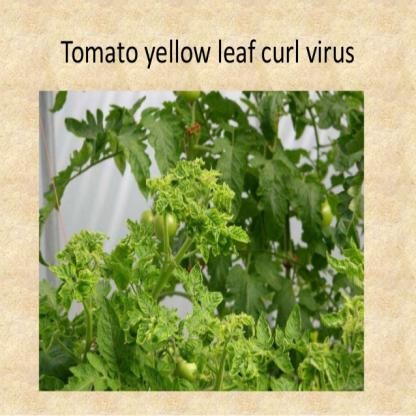tomato leaf yellow virus: (285, 300, 308, 342), (132, 282, 158, 315), (228, 340, 249, 380), (254, 311, 273, 354), (323, 248, 354, 274), (153, 314, 178, 346), (48, 264, 79, 287), (224, 223, 254, 246), (317, 308, 344, 333), (80, 269, 101, 298), (188, 261, 203, 300), (203, 291, 227, 313), (196, 326, 219, 348), (155, 190, 166, 223), (170, 191, 185, 215), (207, 209, 224, 229), (218, 188, 233, 208), (190, 200, 204, 221), (181, 335, 192, 361)
